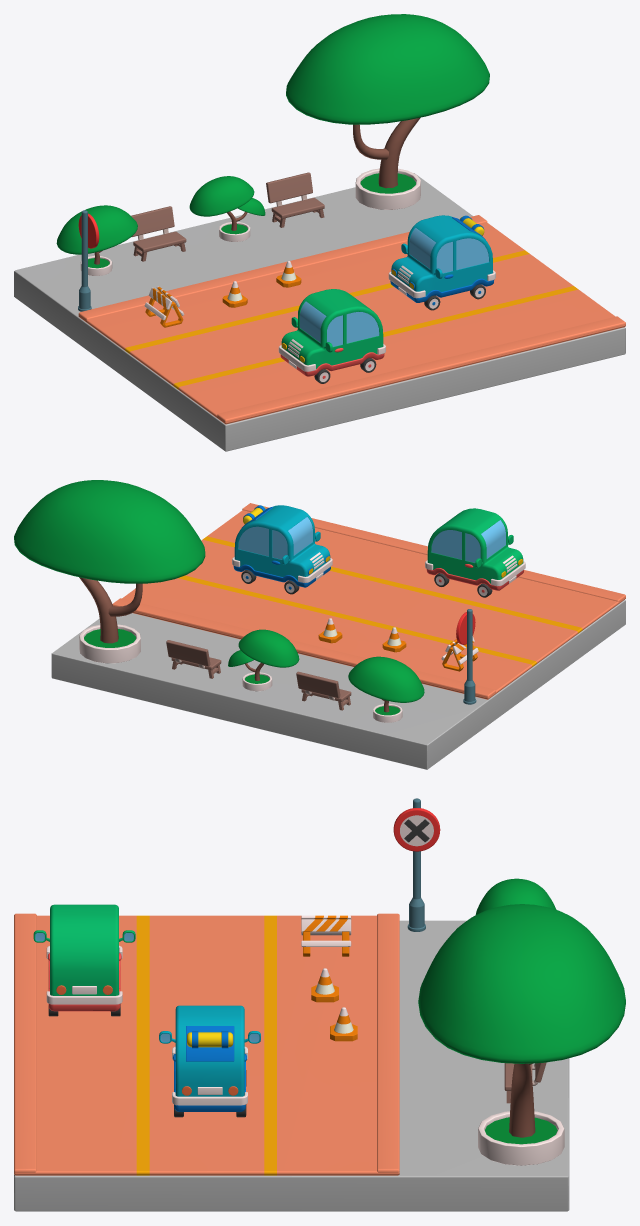
File: Town_Island_9.glb
3 views of the same model, one above another, from view 1: azimuth 30°, elevation 25°; view 2: azimuth 150°, elevation 25°; view 3: azimuth 270°, elevation 25° (orthographic). The views are drawn at different scales.
Visible parts, largest first — view 1: Town_9_Roadway_1, Town_9_Base_1, Town_9_Tree_1, Town_9_Car_2, Town_9_Car_1, Town_9_Bush_2, Town_9_Bush_1, Town_9_Bench_1, Town_9_Bench_2, Town_9_Sign_1, Town_9_Road_Fence_1; view 2: Town_9_Roadway_1, Town_9_Base_1, Town_9_Tree_1, Town_9_Car_2, Town_9_Car_1, Town_9_Bush_1, Town_9_Bush_2, Town_9_Bench_1, Town_9_Bench_2, Town_9_Sign_1, Town_9_Road_Fence_1; view 3: Town_9_Roadway_1, Town_9_Base_1, Town_9_Tree_1, Town_9_Car_1, Town_9_Car_2, Town_9_Sign_1, Town_9_Road_Fence_1, Town_9_Bush_1, Town_9_Cone_2, Town_9_Cone_1, Town_9_Bench_1.
Boxes of the visible parts, x1,y1,x2,y2 form: Town_9_Roadway_1: (78,215,625,424); Town_9_Base_1: (14,173,625,451); Town_9_Tree_1: (286,14,489,209); Town_9_Car_2: (388,215,495,310); Town_9_Car_1: (278,289,385,383); Town_9_Bush_2: (189,176,265,241); Town_9_Bush_1: (56,205,137,275); Town_9_Bench_1: (266,172,324,227); Town_9_Bench_2: (131,206,186,261); Town_9_Sign_1: (78,210,99,311); Town_9_Road_Fence_1: (144,286,184,327); Town_9_Roadway_1: (112,503,625,699); Town_9_Base_1: (51,600,625,769); Town_9_Tree_1: (14,480,205,663); Town_9_Car_2: (232,505,332,594); Town_9_Car_1: (425,508,525,597); Town_9_Bush_1: (348,656,424,722); Town_9_Bush_2: (228,629,299,691); Town_9_Bench_1: (166,640,221,678); Town_9_Bench_2: (296,671,351,710); Town_9_Sign_1: (456,609,476,704); Town_9_Road_Fence_1: (441,636,478,671); Town_9_Roadway_1: (14,913,399,1175); Town_9_Base_1: (14,920,569,1211); Town_9_Tree_1: (418,904,625,1165); Town_9_Car_1: (33,904,135,1016); Town_9_Car_2: (159,1005,260,1117); Town_9_Sign_1: (393,798,440,931); Town_9_Road_Fence_1: (301,915,351,956); Town_9_Bush_1: (475,878,556,914); Town_9_Cone_2: (311,968,338,1002); Town_9_Cone_1: (330,1007,357,1041); Town_9_Bench_1: (504,1062,546,1103).
Bounding box in the file's own units: 19.72 × 8.38 × 17.76.
13 materials, 13 textured.
